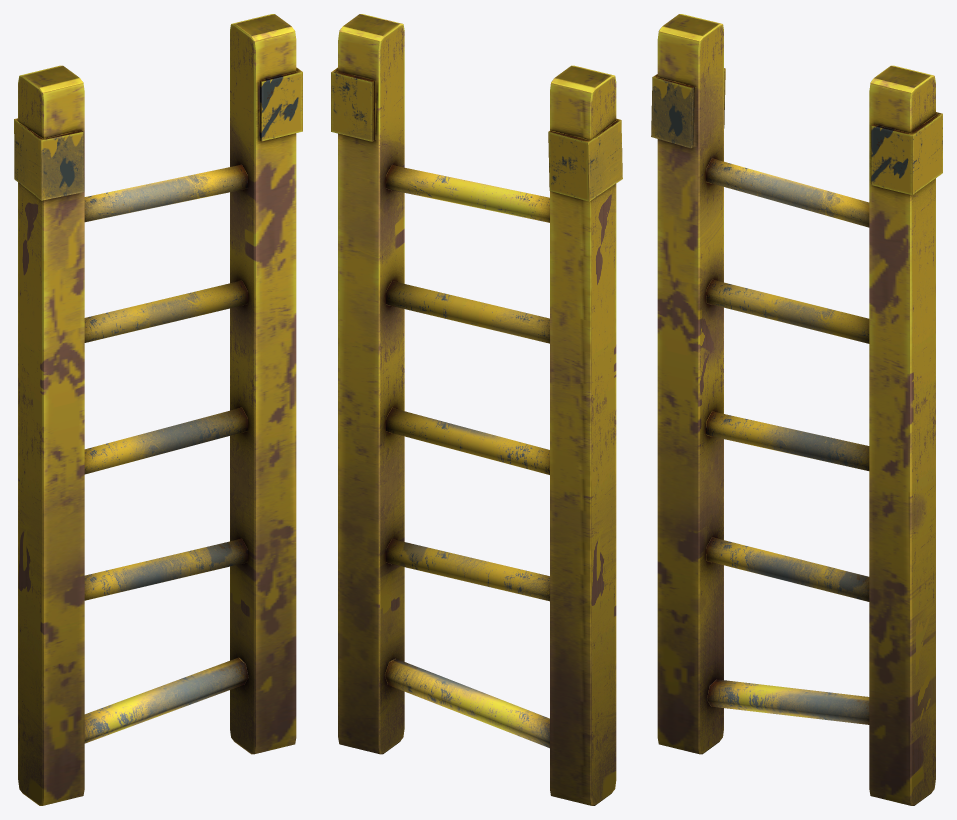
Rendered from Stairs.obj.
The picture shows the model from 3 angles, left to right: view 1: azimuth 30°, elevation 25°; view 2: azimuth 150°, elevation 25°; view 3: azimuth 330°, elevation 25°; orthographic projection.
Parts seen in each view (by area): view 1: Model_GameplayLadder; view 2: Model_GameplayLadder; view 3: Model_GameplayLadder.
Boxes of the visible parts, <box> form: Model_GameplayLadder: <box>14,14,302,805</box>; Model_GameplayLadder: <box>331,14,622,805</box>; Model_GameplayLadder: <box>651,14,942,805</box>.
Bounding box in the file's own units: 0.7997 × 2.1 × 0.1722.
1 material, 1 textured.
